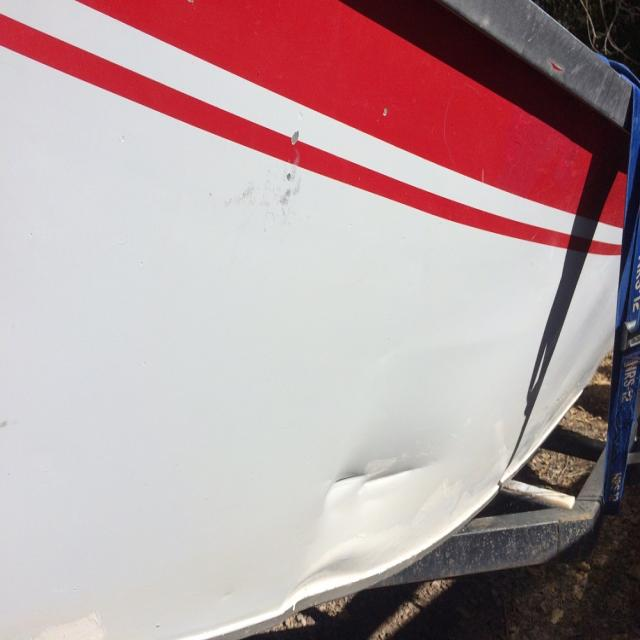Dent: (278, 549, 359, 620), (321, 453, 433, 499)
